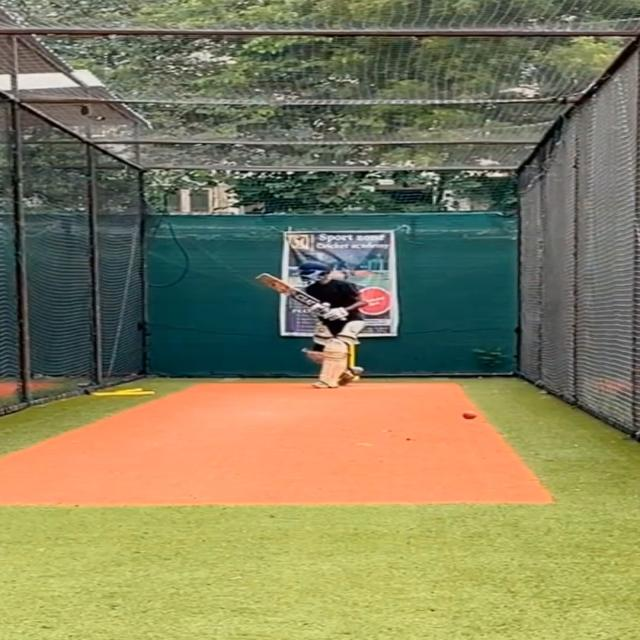ball: (461, 410, 479, 420)
